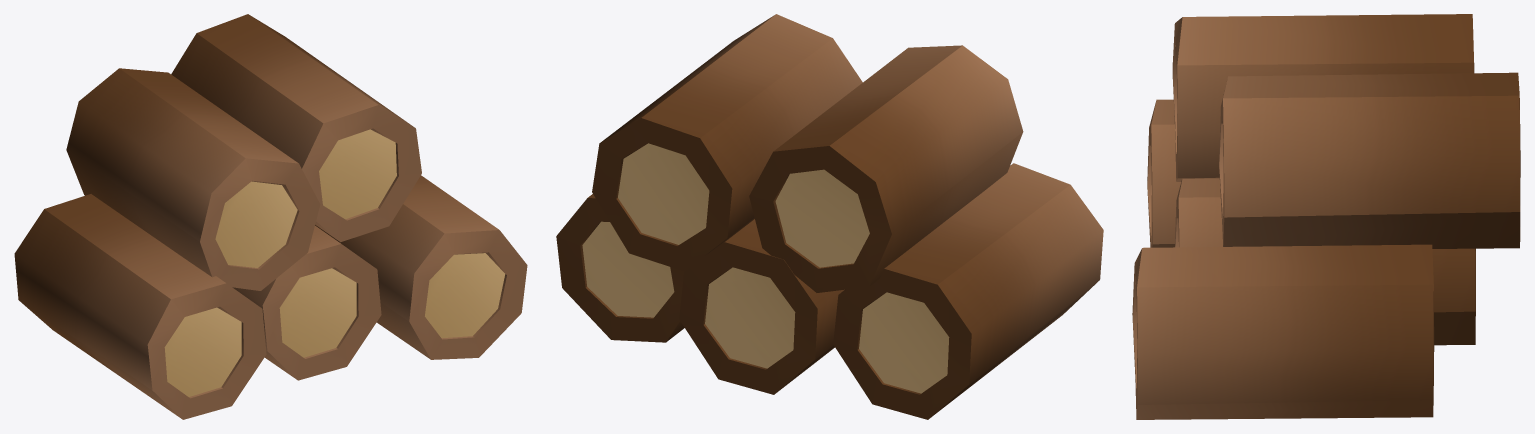
Rendered from Log_Cluster.fbx.
3 views of the same model, side by side, from view 1: azimuth 30°, elevation 25°; view 2: azimuth 150°, elevation 25°; view 3: azimuth 270°, elevation 25° (orthographic). The views are drawn at different scales.
Parts seen in each view (by area): view 1: Log_Cluster.003; view 2: Log_Cluster.003; view 3: Log_Cluster.003.
Part boxes in pixels (box(x1,y1,x2,y2)): Log_Cluster.003: box(14, 14, 527, 419); Log_Cluster.003: box(556, 14, 1103, 419); Log_Cluster.003: box(1132, 14, 1520, 419).
Bounding box in the file's own units: 1.13 × 0.6841 × 0.8446.
Materials: 1 (1 with a texture image).
